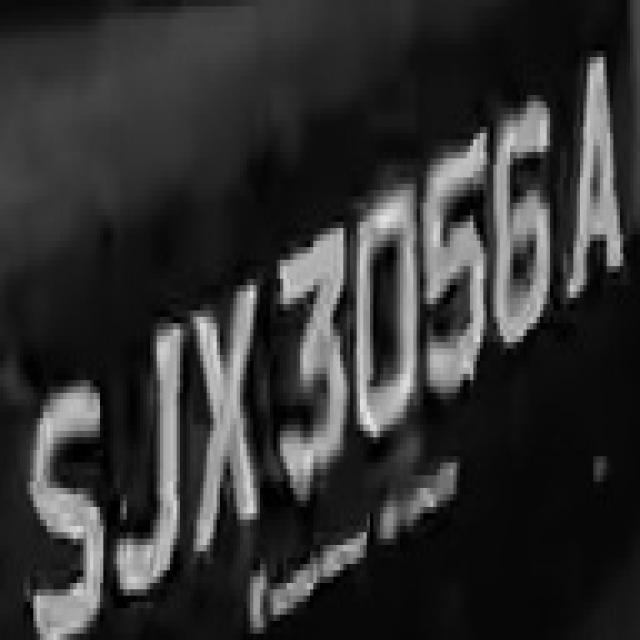0: (347, 171, 423, 450)
3: (266, 202, 346, 500)
5: (420, 108, 493, 412)
6: (470, 95, 560, 349)
A: (556, 13, 636, 317)
J: (100, 266, 190, 596)
S: (27, 348, 113, 634)
X: (190, 260, 267, 558)
